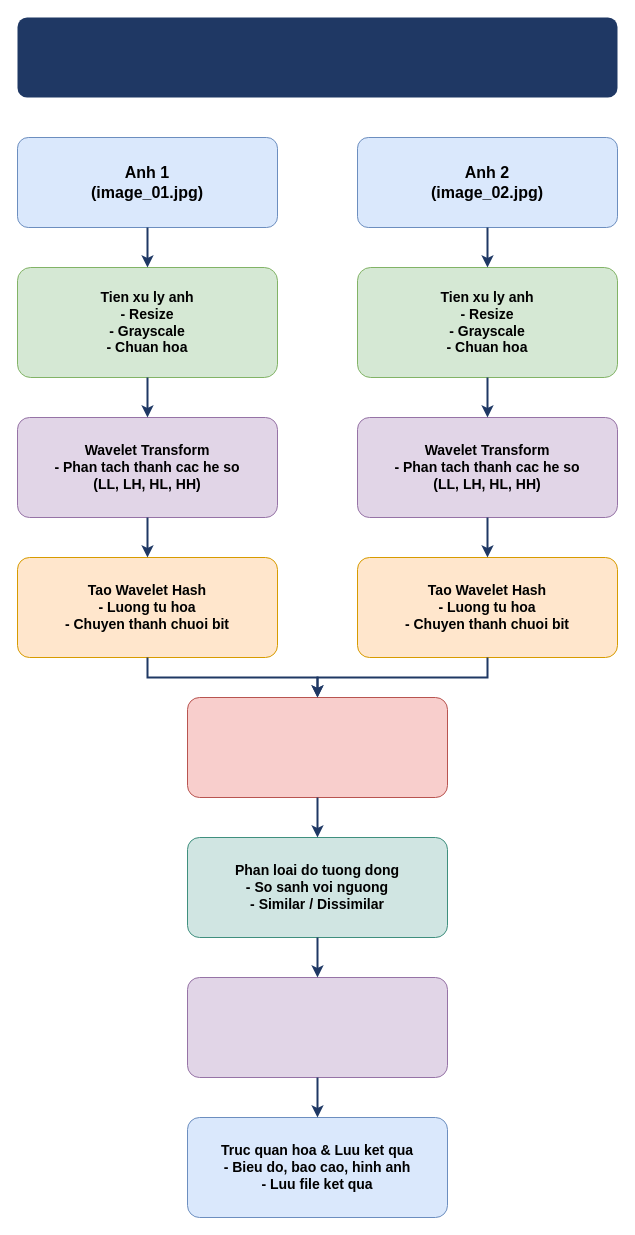
Some shapes in this 635 by 1235 pixel diagram are drawn without their labels. Here are the shapes that lost their labels. From the top down, the centre of each, then its label:
At point 317,57: "So do luong hoat dong tong the cua he thong (System Flow)".
At point 317,747: "Tinh Hamming Distance - So sanh 2 hash - Tinh khoang cach".
At point 317,1027: "Danh gia hieu nang - Accuracy, Sensitivity, Specificity - ROC / AUC".
